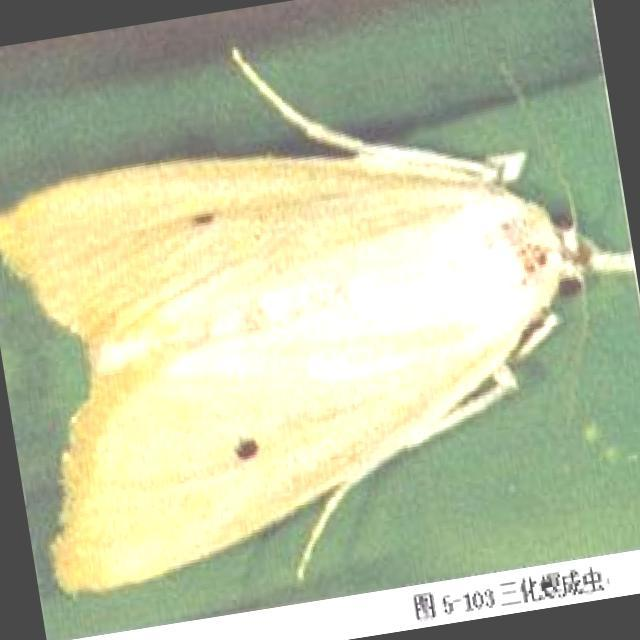stem borer: (0, 51, 632, 591)
